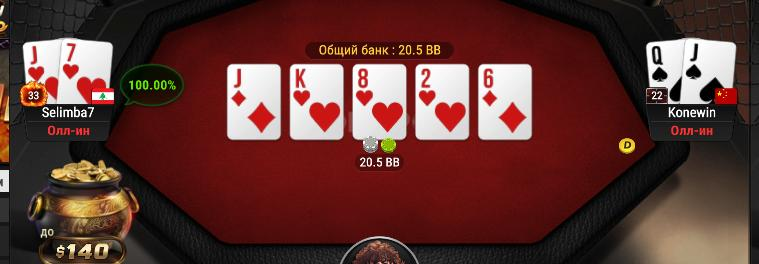2h: (417, 65, 468, 139)
6d: (479, 63, 531, 139)
7h: (59, 37, 113, 103)
8h: (353, 64, 406, 140)
Jd: (227, 64, 280, 140)
Jh: (21, 41, 59, 103)
Js: (684, 38, 737, 106)
Kh: (291, 64, 344, 140)
Qs: (646, 40, 683, 103)
